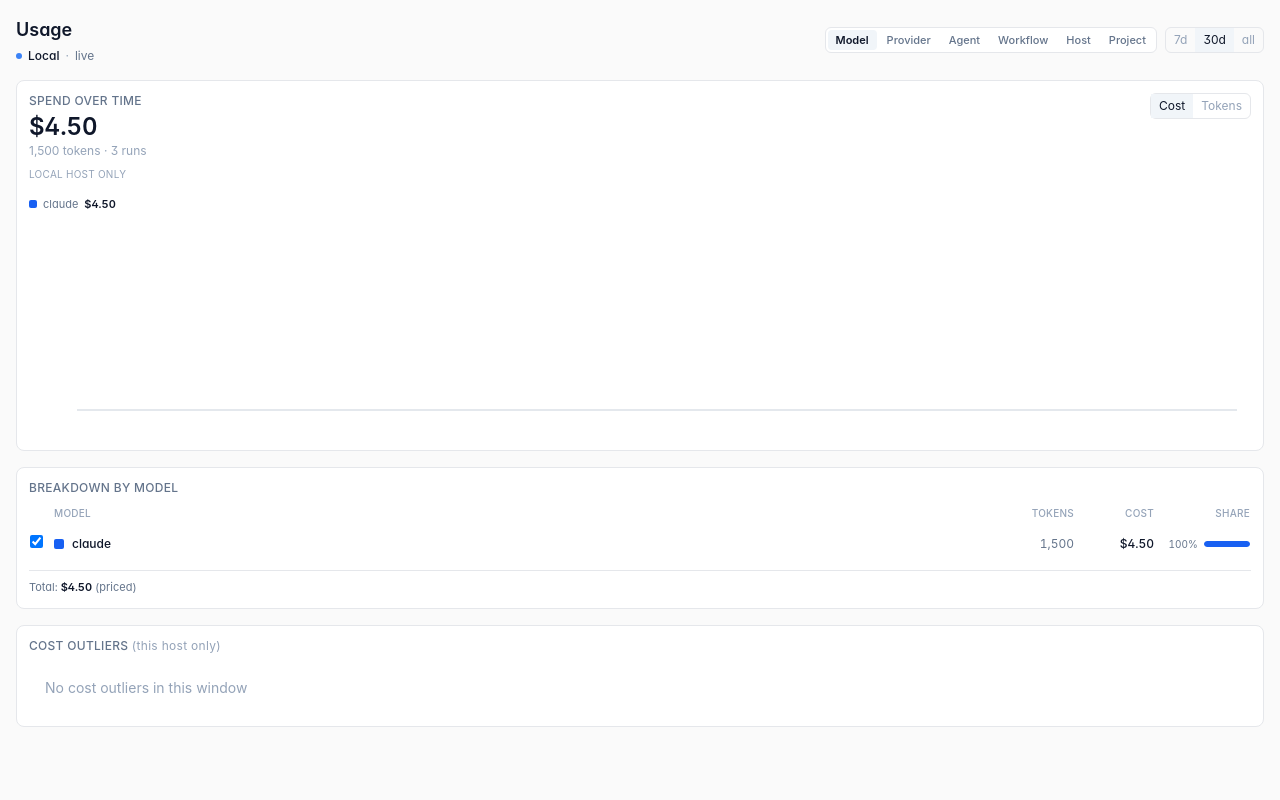
Usage page › re-labels the breakdown when the pivot picker changes
Click the button "workflow" at coordinates (1023, 40), box [990,30,1056,50]
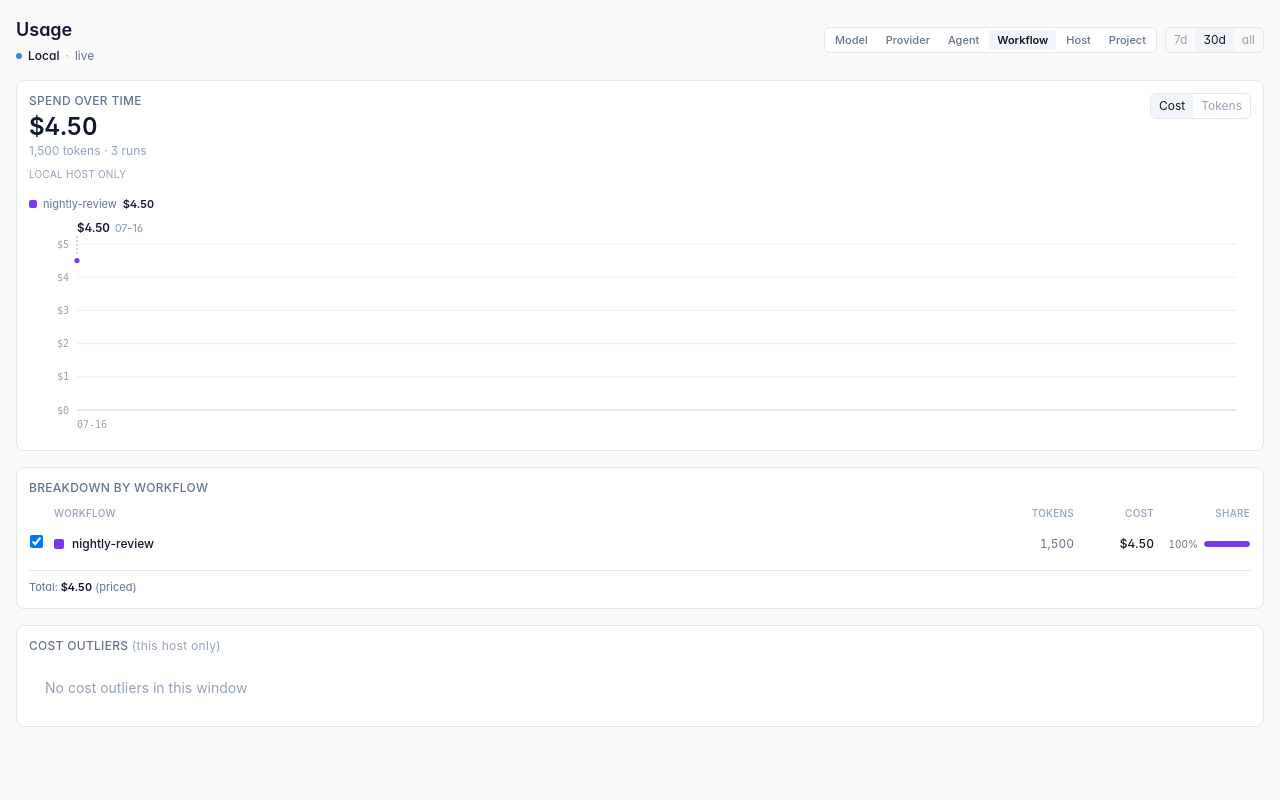
Now the heading "Breakdown by Workflow" is shown, box [29,480,208,495]
